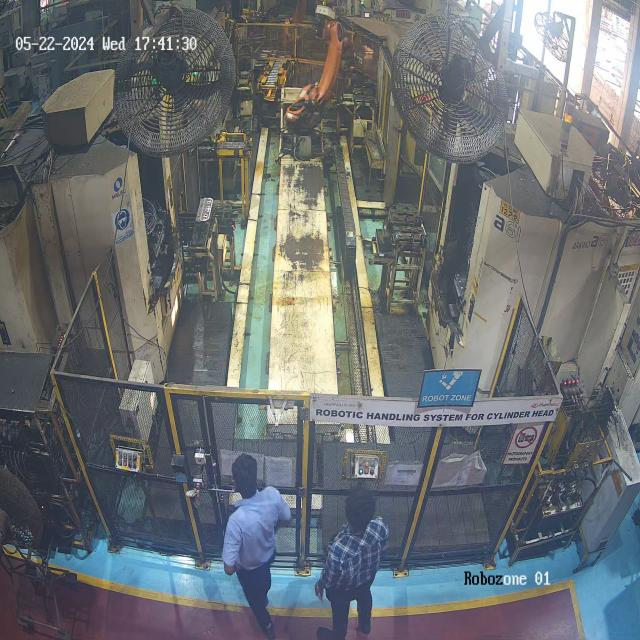person: (215, 448, 303, 640), (311, 474, 396, 640)
